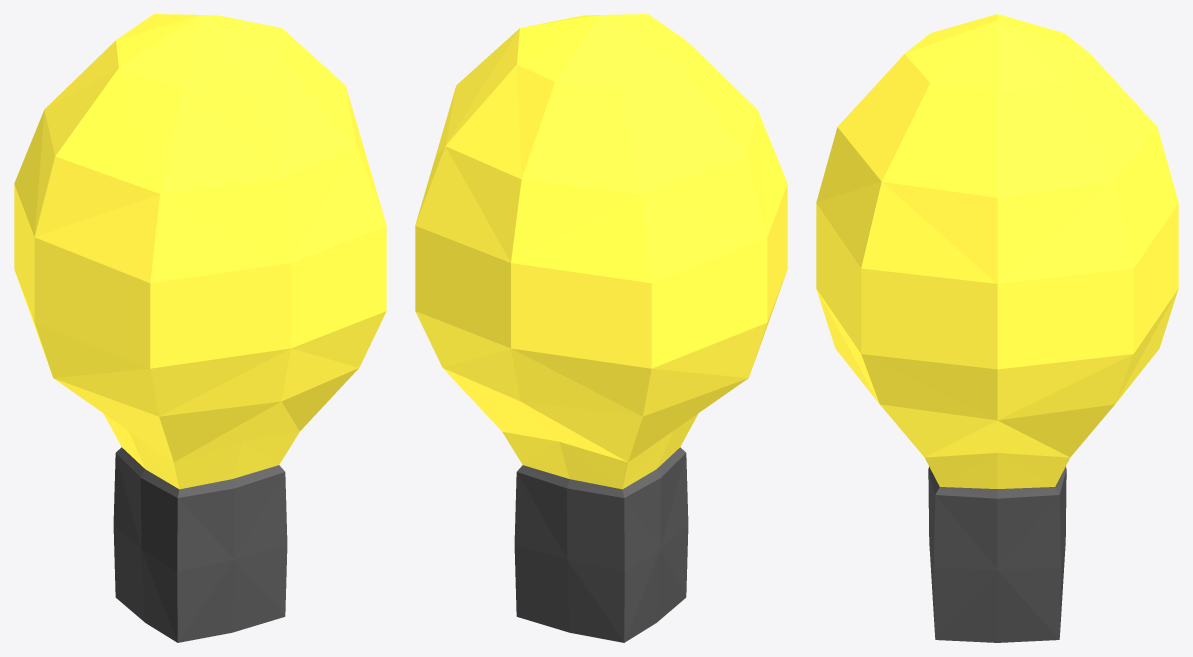
The model's file is Light_Bulb.fbx.
The picture shows the model from 3 angles, left to right: view 1: azimuth 30°, elevation 25°; view 2: azimuth 150°, elevation 25°; view 3: azimuth 270°, elevation 25°; orthographic projection.
Parts seen in each view (by area): view 1: Light_Bumb; view 2: Light_Bumb; view 3: Light_Bumb.
Boxes of the visible parts, x1=… form: Light_Bumb: x1=14, y1=14, x2=386, y2=642; Light_Bumb: x1=415, y1=14, x2=787, y2=642; Light_Bumb: x1=816, y1=14, x2=1178, y2=642.
Bounding box in the file's own units: 478 × 829 × 452.
